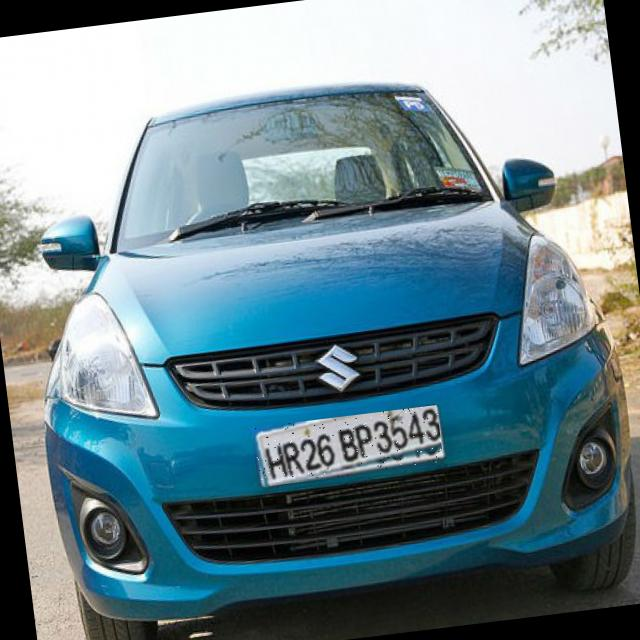Plate: (252, 406, 445, 488)
